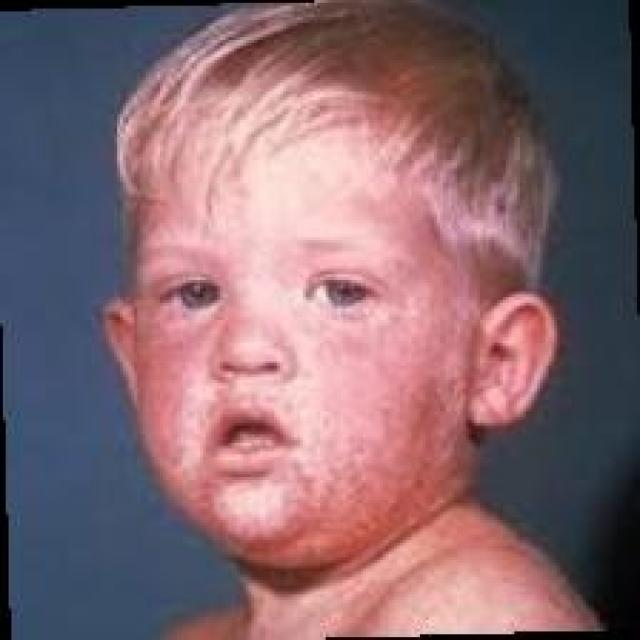others: (80, 180, 486, 578)
